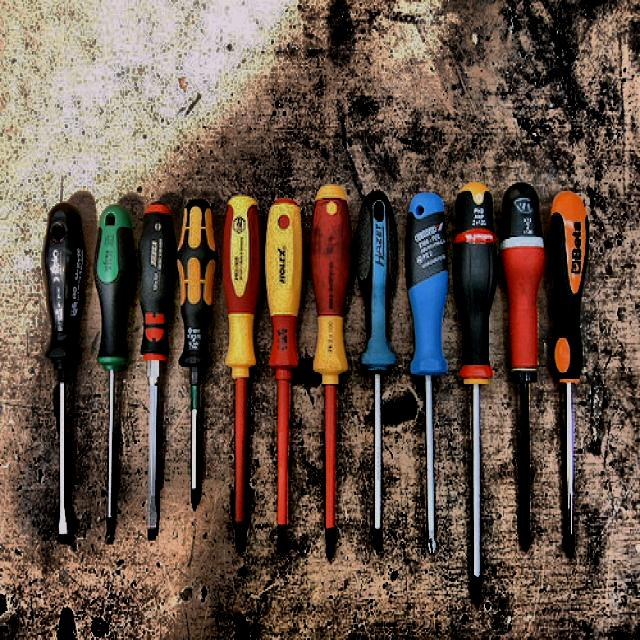screwdriver: (453, 183, 499, 604), (308, 186, 354, 558), (502, 182, 546, 550), (356, 190, 399, 552), (406, 192, 448, 554), (42, 203, 86, 544), (550, 192, 590, 558), (264, 196, 304, 556), (94, 204, 135, 546), (222, 194, 260, 553), (178, 199, 217, 510), (138, 202, 173, 540)
